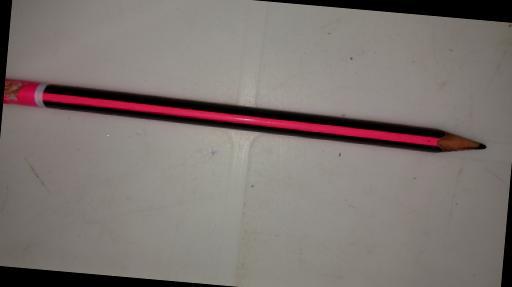Pencil: (2, 77, 492, 156)
